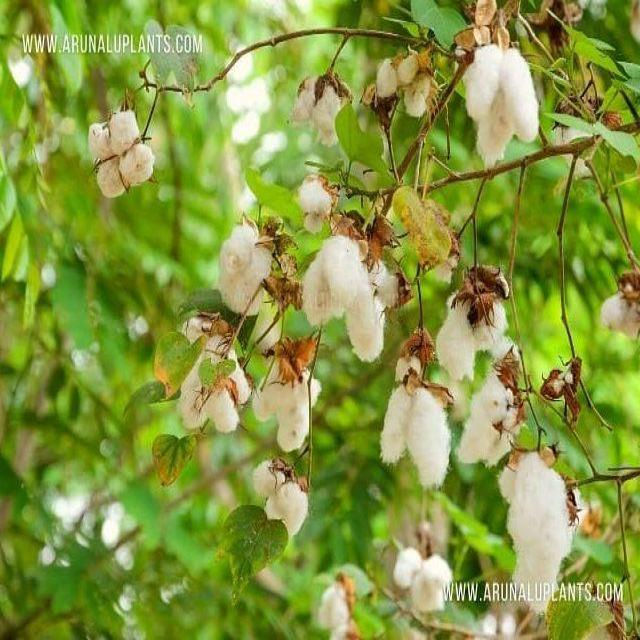Early_blight: (301, 229, 389, 363), (435, 264, 518, 384), (175, 311, 252, 437), (463, 44, 542, 164), (504, 451, 579, 572), (380, 372, 453, 493), (219, 214, 280, 311), (89, 112, 153, 200), (252, 460, 312, 540), (373, 51, 440, 122)
